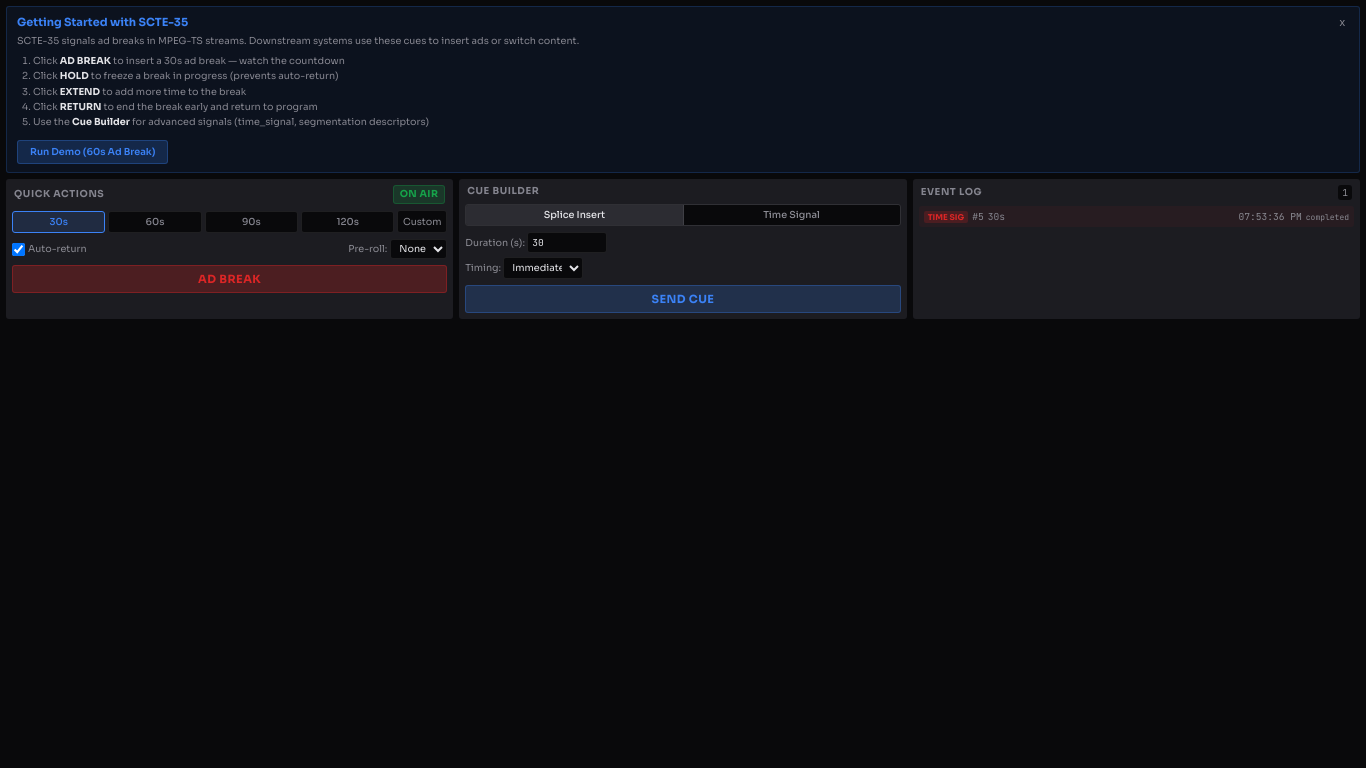
Test: SCTE35Panel › shows descriptors section in flyout when event has descriptors
Click the button with class "log-item-btn": coordinates (946, 217) [919, 206, 1354, 227]
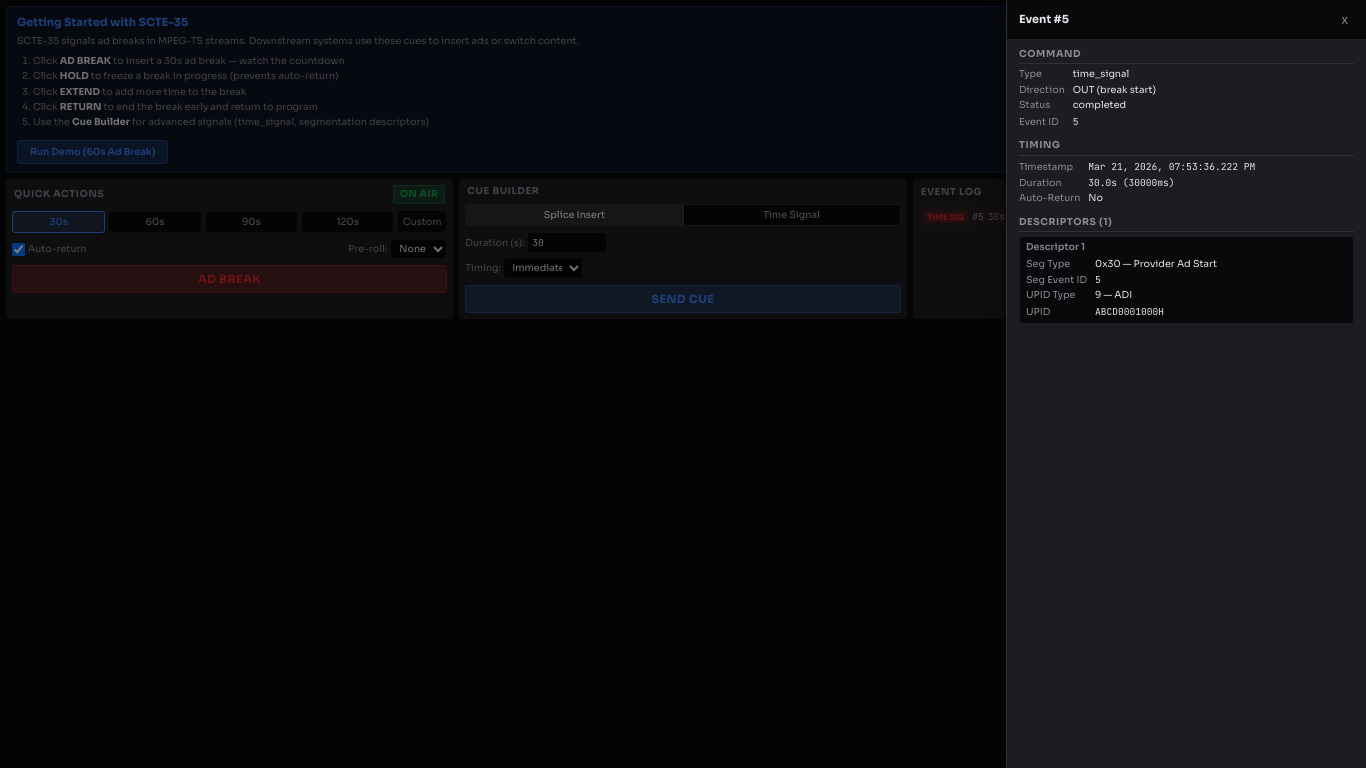
Expected: the element with class "detail-flyout" shows "Descriptors (1)", [1019, 216, 1112, 228]
Expected: the element with class "detail-flyout" shows "Provider Ad Start", [1095, 258, 1217, 270]
Expected: the element with class "detail-flyout" shows "ADI", [1095, 290, 1132, 302]
